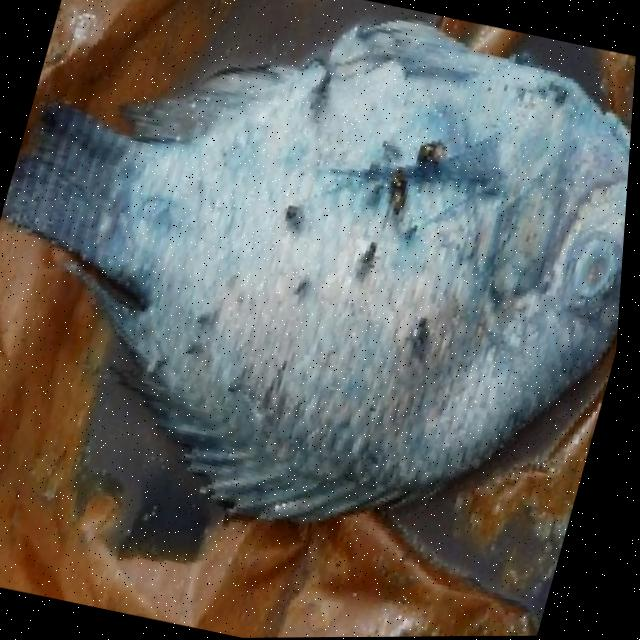Non-Fresh: (0, 0, 640, 521), (538, 216, 628, 328)
